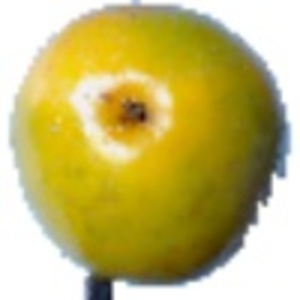maracujá: (8, 1, 300, 300)
